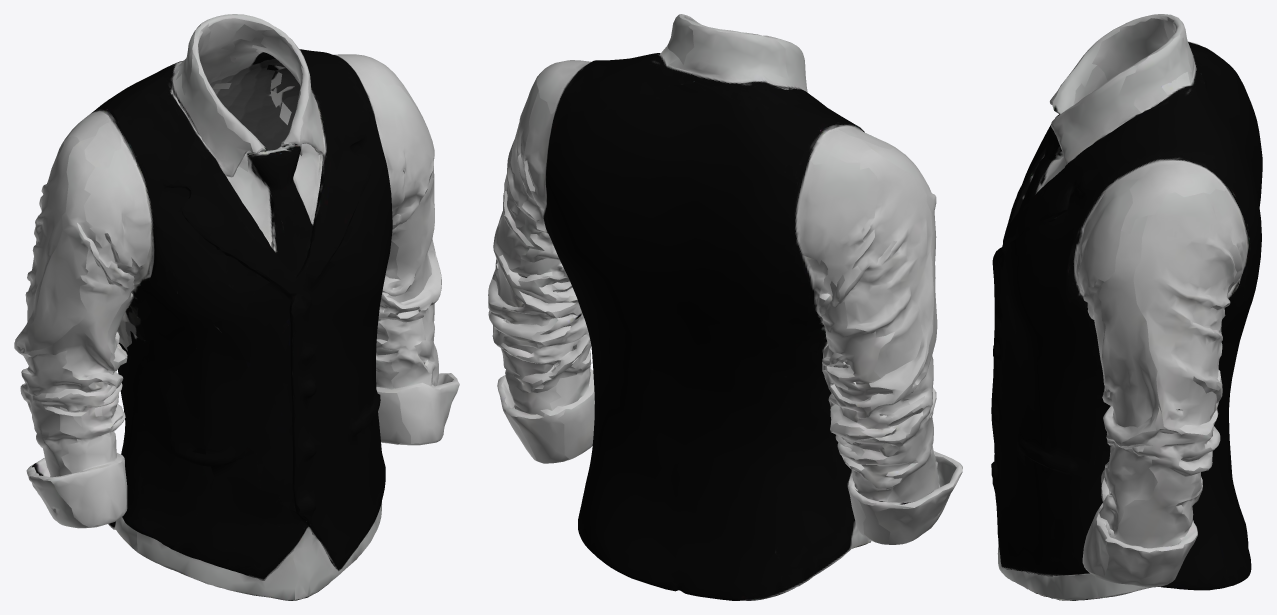
3 renders of one model, left to right at view 1: azimuth 30°, elevation 25°; view 2: azimuth 150°, elevation 25°; view 3: azimuth 270°, elevation 25°, orthographic. The views are drawn at different scales.
Parts seen in each view (by area): view 1: textured_mesh.obj; view 2: textured_mesh.obj; view 3: textured_mesh.obj.
Boxes of the visible parts, left/top/right/bottom form: textured_mesh.obj: left=14, top=14, right=459, bottom=600; textured_mesh.obj: left=488, top=14, right=962, bottom=600; textured_mesh.obj: left=991, top=14, right=1262, bottom=600.
Bounding box in the file's own units: 1.71 × 1.99 × 0.9023.
Materials: 1 (1 with a texture image).
